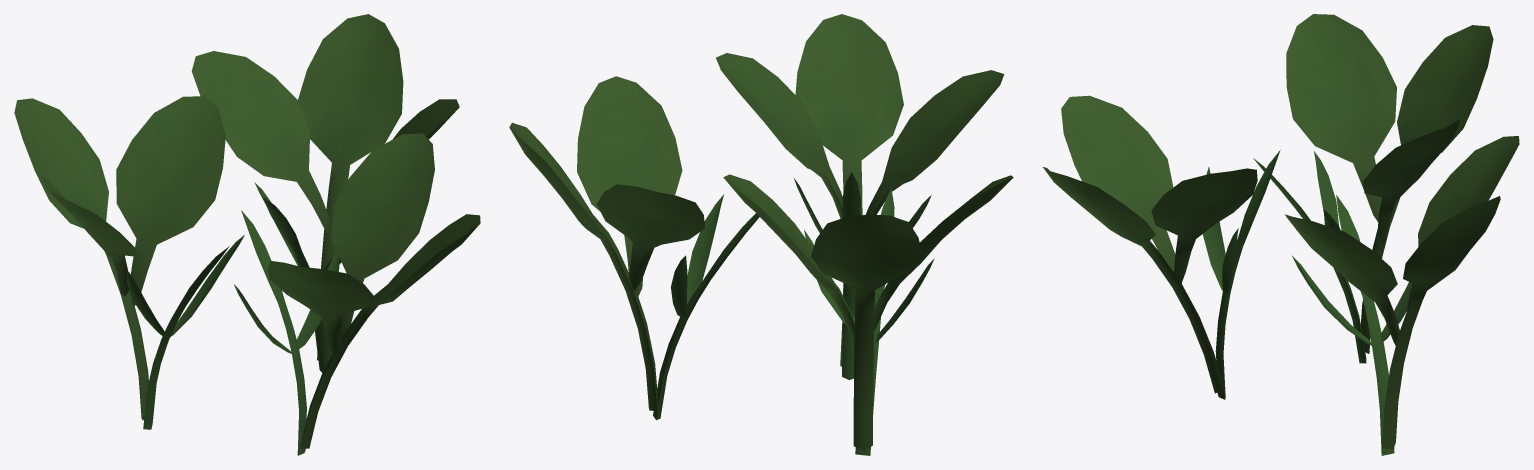
Rendered from Crop_Spinach_Stage_03.fbx.
3 views of the same model, side by side, from view 1: azimuth 30°, elevation 25°; view 2: azimuth 150°, elevation 25°; view 3: azimuth 270°, elevation 25° (orthographic). The views are drawn at different scales.
Visible parts, largest first — view 1: Spinach_Stage_03; view 2: Spinach_Stage_03; view 3: Spinach_Stage_03.
Boxes of the visible parts, left/top/right/bottom form: Spinach_Stage_03: left=14, top=14, right=480, bottom=455; Spinach_Stage_03: left=509, top=14, right=1013, bottom=455; Spinach_Stage_03: left=1043, top=14, right=1519, bottom=455.
Size of the model in its own units: 43.54 by 30.19 by 43.17.
